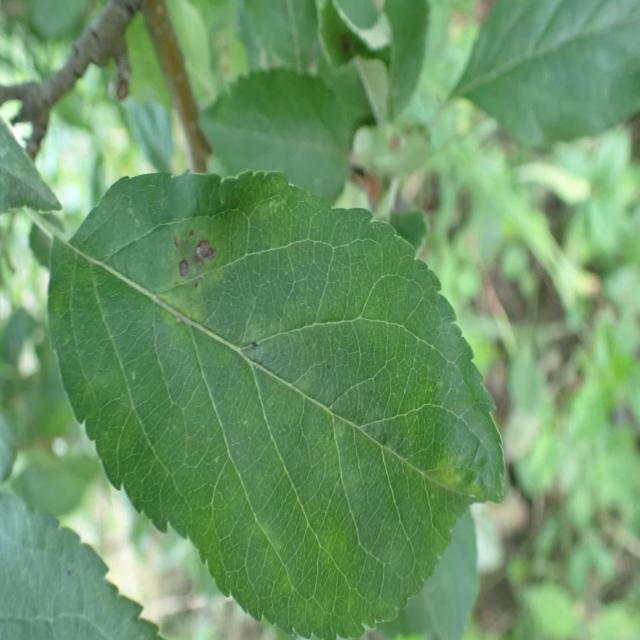scab: (120, 191, 424, 507)
